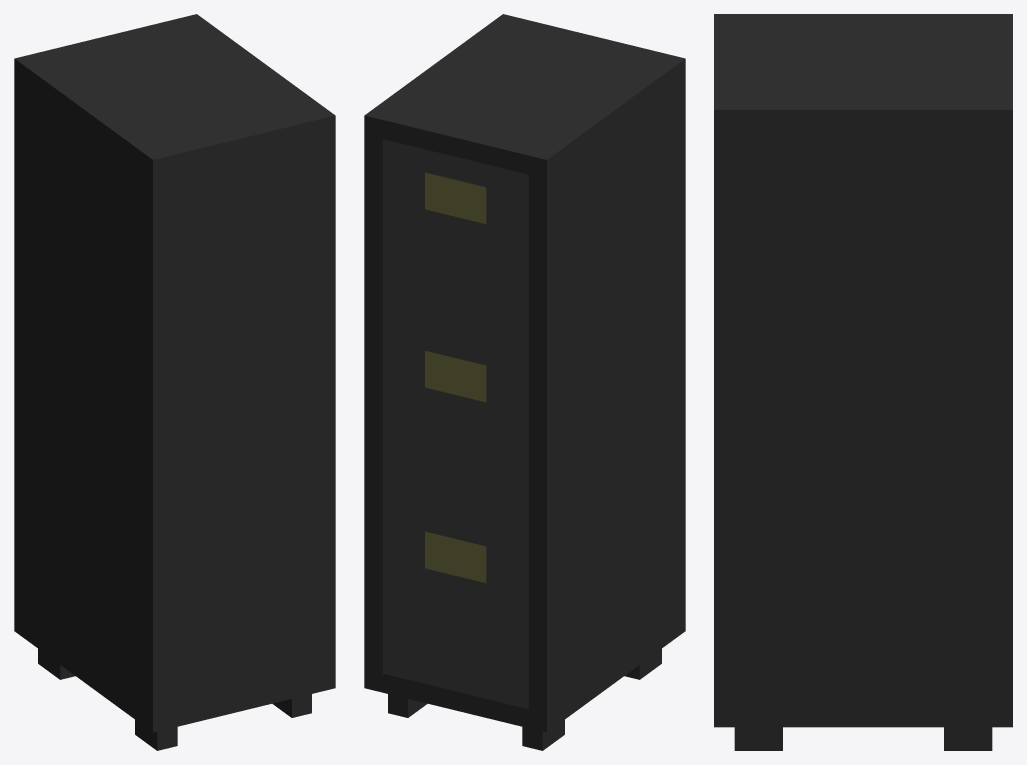
File: filingcabinet_01.FBX
3 renders of one model, left to right at view 1: azimuth 30°, elevation 25°; view 2: azimuth 150°, elevation 25°; view 3: azimuth 270°, elevation 25°, orthographic. The views are drawn at different scales.
Parts seen in each view (by area): view 1: Filing Cabinet; view 2: Filing Cabinet; view 3: Filing Cabinet.
Part boxes in pixels (left/top/right/bottom): Filing Cabinet: left=14, top=14, right=335, bottom=750; Filing Cabinet: left=364, top=14, right=685, bottom=750; Filing Cabinet: left=714, top=14, right=1012, bottom=750.
Size of the model in its own units: 20 by 63 by 26.33.
